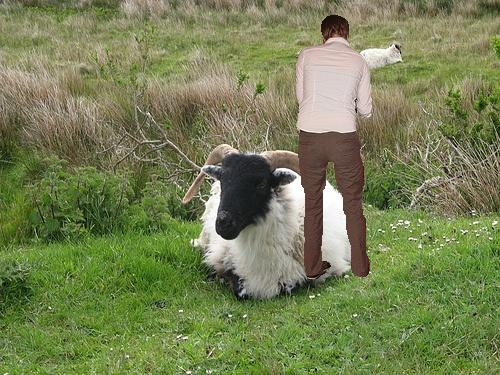tampered: (296, 16, 372, 279)
